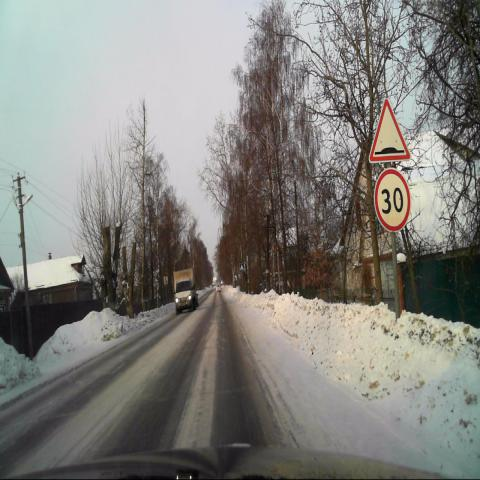1_17: (369, 100, 410, 164)
